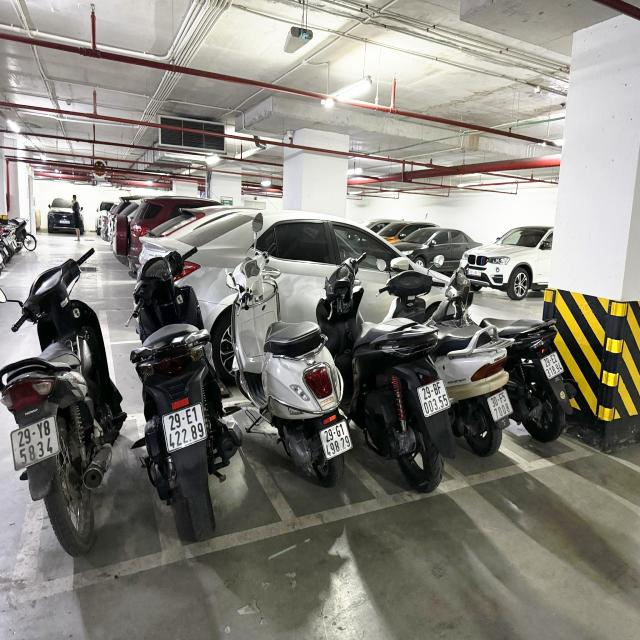license_plate: (12, 417, 63, 472), (162, 404, 209, 452), (321, 419, 356, 462), (419, 377, 454, 418), (489, 390, 514, 421), (542, 353, 566, 380)
